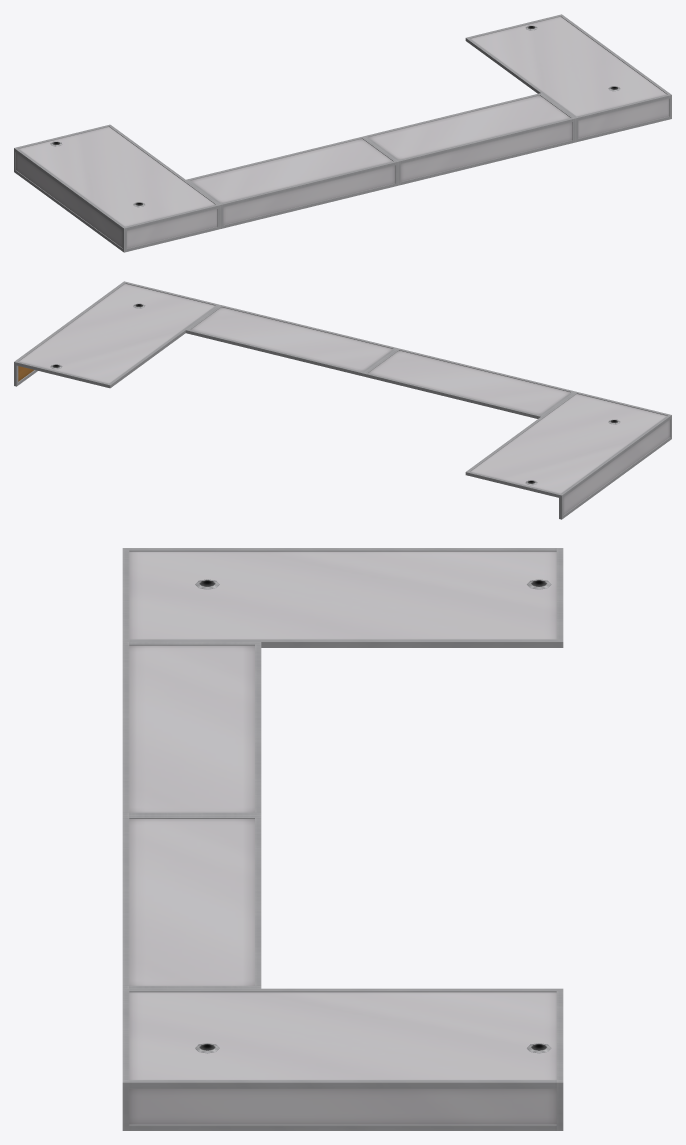
The model's file is jsf_4P_s03_c04_t04_DX.fbx.
3 views of the same model, one above another, from view 1: azimuth 30°, elevation 25°; view 2: azimuth 150°, elevation 25°; view 3: azimuth 270°, elevation 25° (orthographic). The views are drawn at different scales.
Parts seen in each view (by area): view 1: jsf_4P_s03_c04_t04_DX; view 2: jsf_4P_s03_c04_t04_DX; view 3: jsf_4P_s03_c04_t04_DX.
Boxes of the visible parts, box(x1,y1,x2,y2) form: jsf_4P_s03_c04_t04_DX: box(14, 14, 671, 252); jsf_4P_s03_c04_t04_DX: box(14, 281, 671, 519); jsf_4P_s03_c04_t04_DX: box(122, 548, 563, 1130).
Bounding box in the file's own units: 298 × 12.99 × 104.
